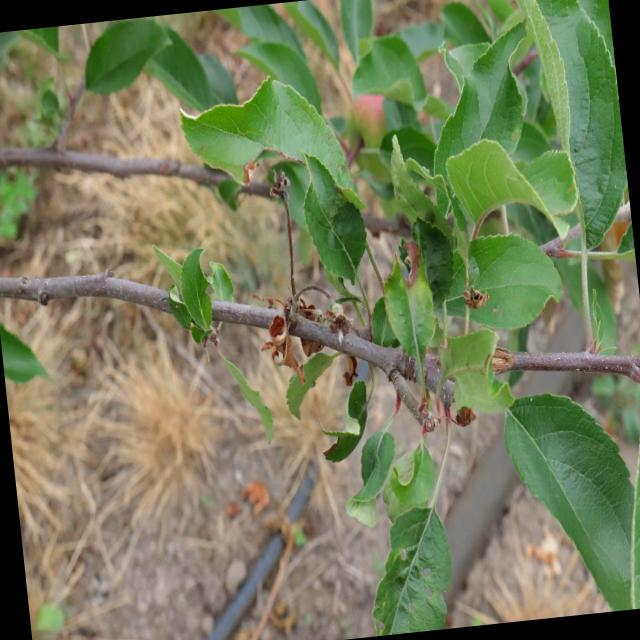-FireBlight-: (272, 270, 340, 368)
